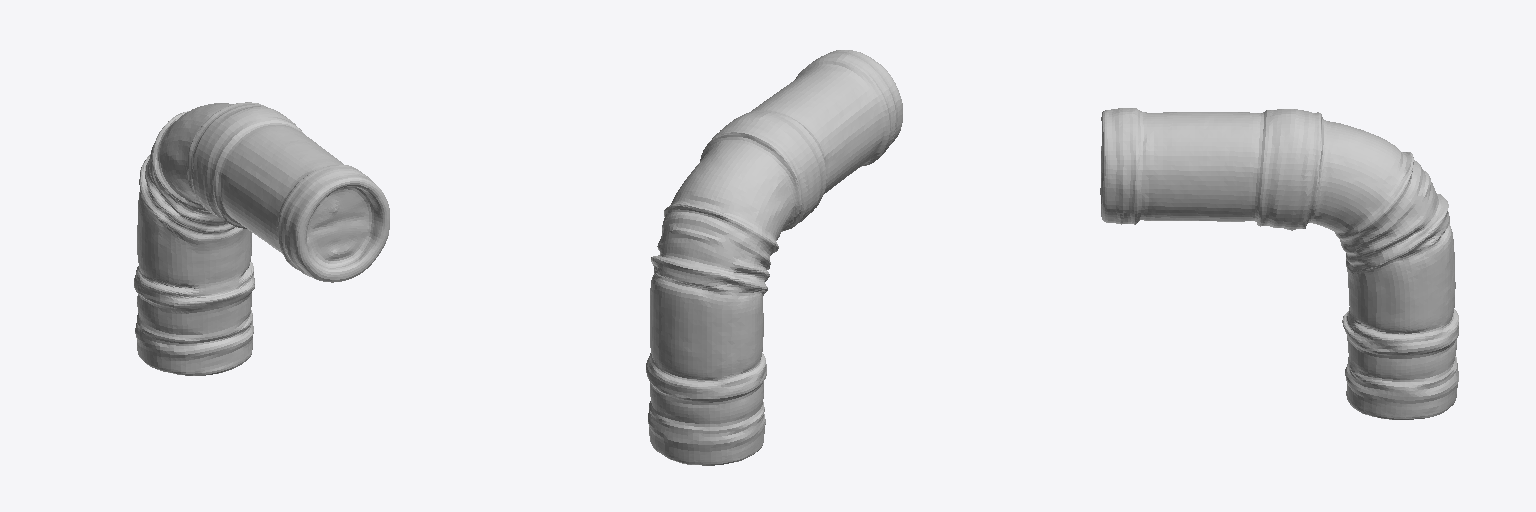
Rendered from b5756b98138a_sci_fi_pipe_bend__b.obj.
3 renders of one model, left to right at view 1: azimuth 30°, elevation 25°; view 2: azimuth 150°, elevation 25°; view 3: azimuth 270°, elevation 25°, orthographic.
Visible parts, largest first — view 1: mesh; view 2: mesh; view 3: mesh.
Boxes of the visible parts, x1=… form: mesh: x1=134, y1=102, x2=389, y2=375; mesh: x1=646, y1=50, x2=902, y2=465; mesh: x1=1100, y1=108, x2=1458, y2=419.
Bounding box in the file's own units: 0.3455 × 0.8817 × 0.9992.